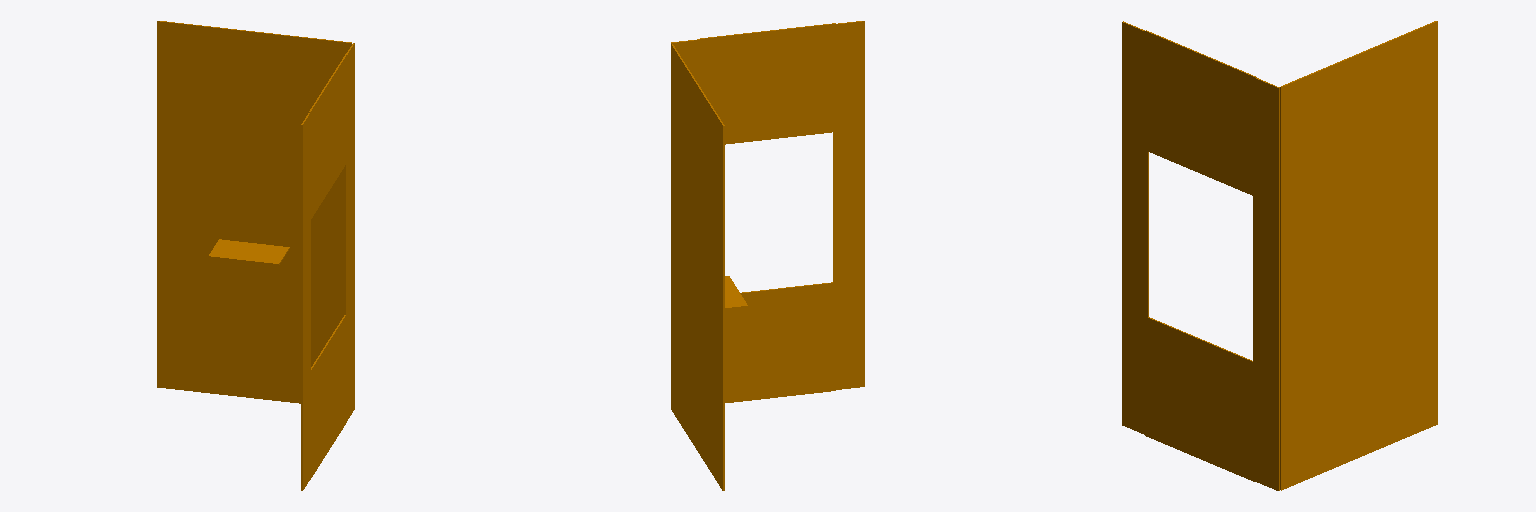
URDF robot description (drc-testbed-drill-wall_fixed):
<?xml version="1.0"?>
<robot name="drc-testbed-drill-wall_fixed"
       xmlns:xi="http://www.w3.org/2001/XInclude"
       >
  <gazebo>
    <static>false</static>
  </gazebo>
  <link name="nil_link">
    <visual>
      <origin xyz="0 0 0" rpy="0 -0 0"/>
      <geometry>
        <mesh filename="model://drc-testbed-drill-wall/meshes/nil_link_mesh.dae" scale="1 1 1" />
      </geometry>
    </visual>
    <collision>
      <origin xyz="0 0 0" rpy="0 -0 0"/>
      <geometry>
        <mesh filename="model://drc-testbed-drill-wall/meshes/nil_link_mesh.dae" scale="1 1 1" />
      </geometry>
    </collision>
    <inertial>
      <mass value="0.001" />
      <origin xyz="0 0 0" rpy="0 -0 0"/>
      <inertia ixx="1e-03" ixy="0" ixz="0" iyy="1e-03" iyz="0" izz="1e-03"/>
    </inertial>
  </link>
  <gazebo reference="nil_link">
    <mu1>0.9</mu1>
    <mu2>0.9</mu2>
  </gazebo>
  <!-- Used for fixing robot to Gazebo 'base_link' -->
  <link name="world"/>
  <joint name="fixed" type="fixed">
    <parent link="world"/>
    <child link="nil_link"/>
  </joint>
</robot>

--- What the picture shows (computed from the rendered views, not written in the file) ---
Views: 3 orthographic renders of the robot side by side, from view 1: azimuth 30°, elevation 25°; view 2: azimuth 150°, elevation 25°; view 3: azimuth 270°, elevation 25°.
Model drc-testbed-drill-wall_fixed with 2 links and 1 joints (1 fixed), rooted at world, posed every joint at zero.
Visible links, largest first — view 1: nil_link; view 2: nil_link; view 3: nil_link.
Boxes of the visible links, bbox=[...] form: nil_link: bbox=[157, 21, 354, 490]; nil_link: bbox=[671, 21, 864, 490]; nil_link: bbox=[1122, 21, 1437, 490].
Size in the robot's own frame: 0.8733 by 1.73 by 2.44 metres.
Meshes: 1 distinct files referenced, 1 mesh visuals loaded (1 Collada DAE).